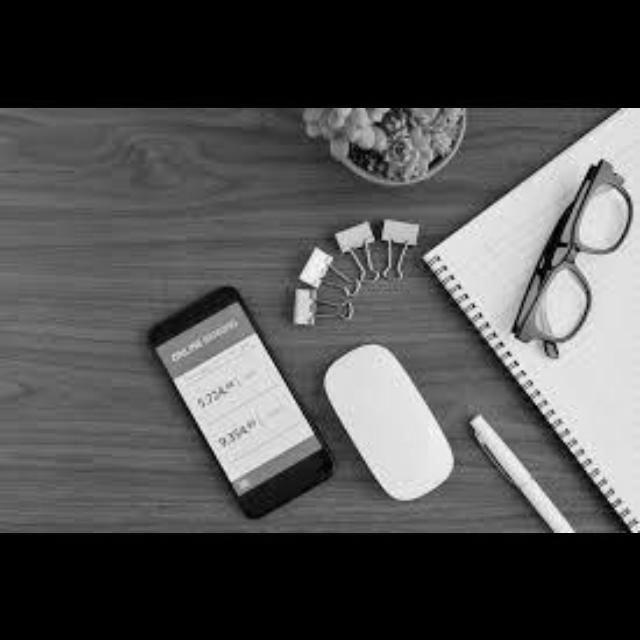fake: (153, 284, 321, 512)
